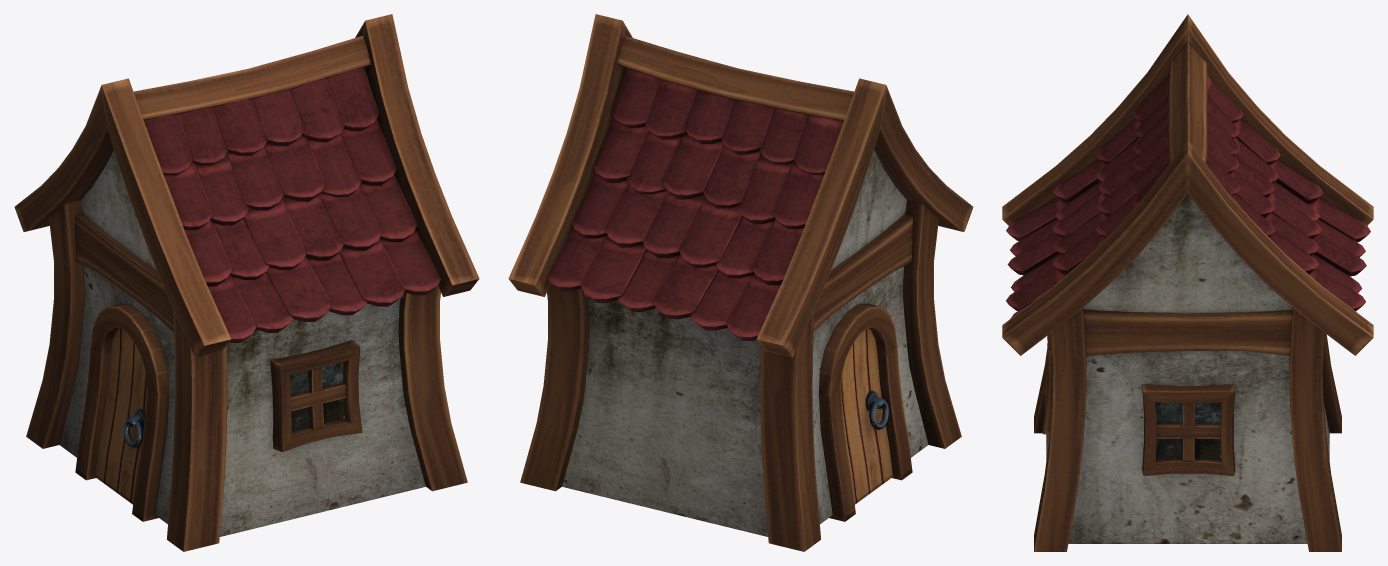
The picture shows the model from 3 angles, left to right: view 1: azimuth 30°, elevation 25°; view 2: azimuth 150°, elevation 25°; view 3: azimuth 270°, elevation 25°; orthographic projection. The views are drawn at different scales.
Visible parts, largest first — view 1: test_house_walls_1; view 2: test_house_walls_1; view 3: test_house_walls_1.
Boxes of the visible parts, x1,y1,x2,y2 form: test_house_walls_1: [14, 14, 479, 551]; test_house_walls_1: [508, 14, 973, 551]; test_house_walls_1: [1002, 14, 1373, 551].
Size of the model in its own units: 119 by 161 by 134.
1 material, 1 textured.
